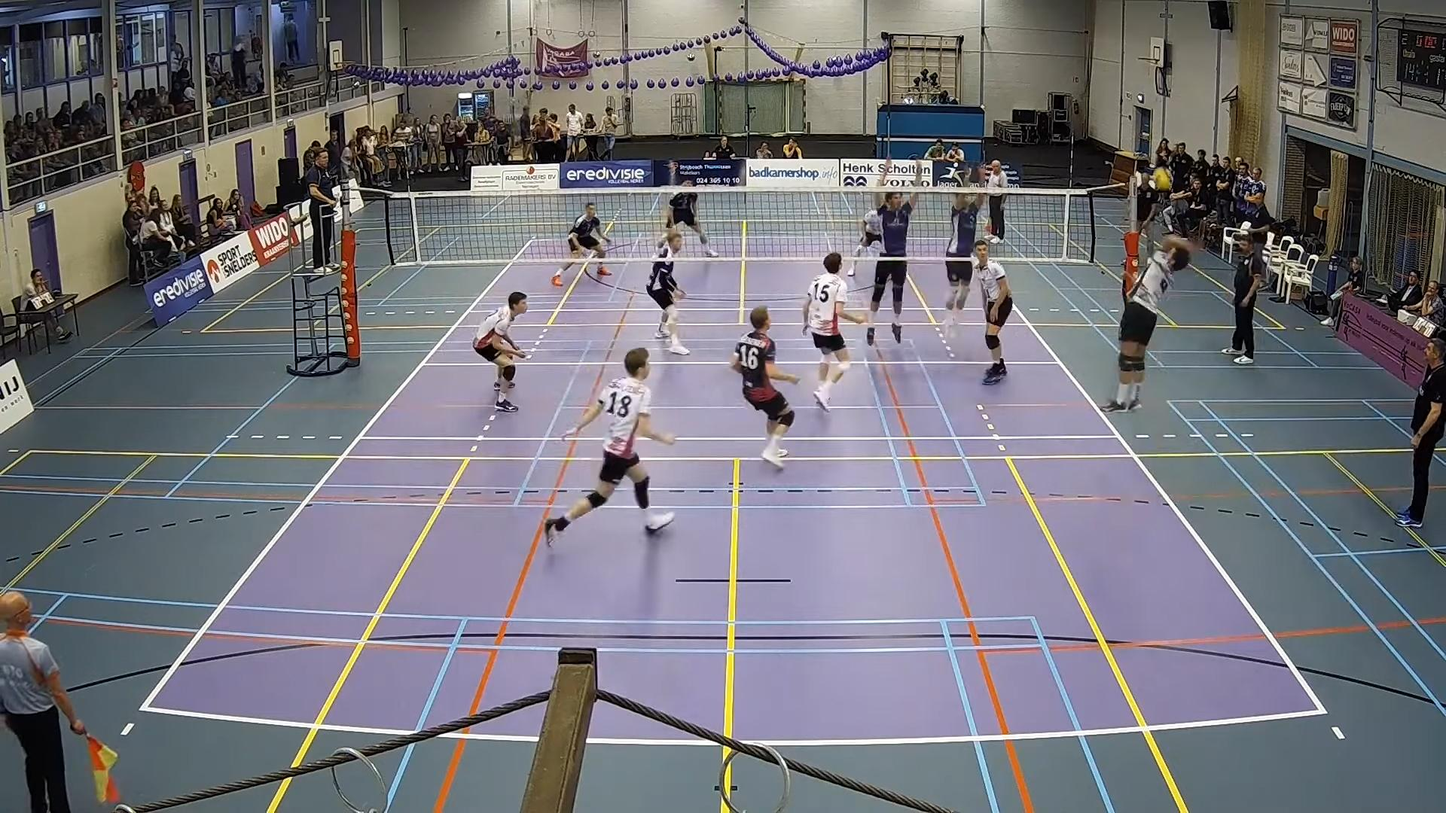Attack: (1096, 230, 1194, 418)
Block: (860, 151, 927, 344), (943, 151, 994, 346)
Player: (545, 348, 674, 544), (731, 306, 798, 467), (803, 252, 865, 410), (473, 291, 527, 412), (974, 239, 1012, 384), (645, 230, 688, 355), (552, 203, 610, 286), (665, 188, 718, 257), (847, 209, 881, 276)
ball: (1154, 166, 1173, 187)
